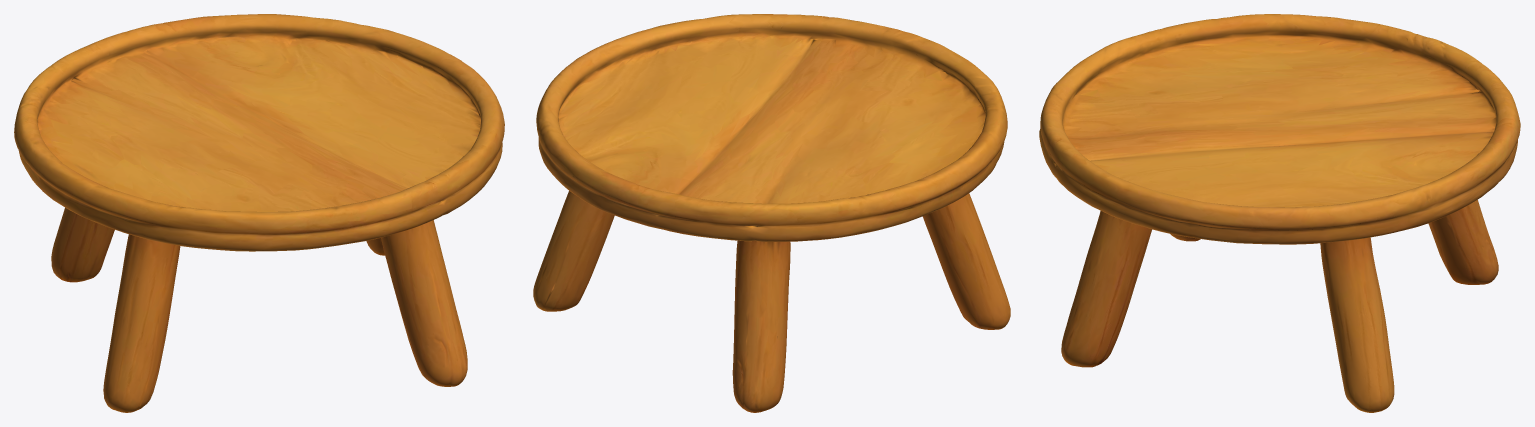
File: held-coffee-table.glb
3 views of the same model, side by side, from view 1: azimuth 30°, elevation 25°; view 2: azimuth 150°, elevation 25°; view 3: azimuth 270°, elevation 25° (orthographic). The views are drawn at different scales.
Visible parts, largest first — view 1: tripo_node_a0b818f2-2e4d-4ce0-8db1-af94f3996d60; view 2: tripo_node_a0b818f2-2e4d-4ce0-8db1-af94f3996d60; view 3: tripo_node_a0b818f2-2e4d-4ce0-8db1-af94f3996d60.
Part boxes in pixels (x1,y1,x2,y2): tripo_node_a0b818f2-2e4d-4ce0-8db1-af94f3996d60: (14,14,504,412); tripo_node_a0b818f2-2e4d-4ce0-8db1-af94f3996d60: (533,14,1010,412); tripo_node_a0b818f2-2e4d-4ce0-8db1-af94f3996d60: (1039,14,1520,412).
Size of the model in its own units: 0.9748 by 0.4738 by 0.9777.
1 material, 1 textured.
